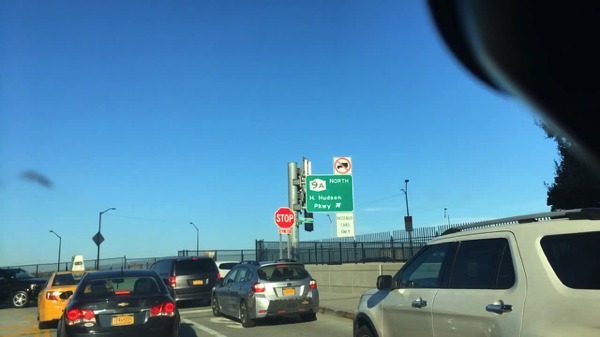car: (352, 207, 599, 336), (57, 269, 181, 337), (210, 254, 319, 328), (147, 255, 221, 308), (37, 271, 103, 330), (0, 268, 50, 310), (214, 261, 242, 280)
traffic sign: (306, 176, 354, 213), (273, 207, 295, 229), (335, 213, 355, 237), (332, 156, 352, 176), (403, 216, 413, 232), (92, 234, 104, 247), (297, 217, 314, 224), (279, 229, 293, 236)
